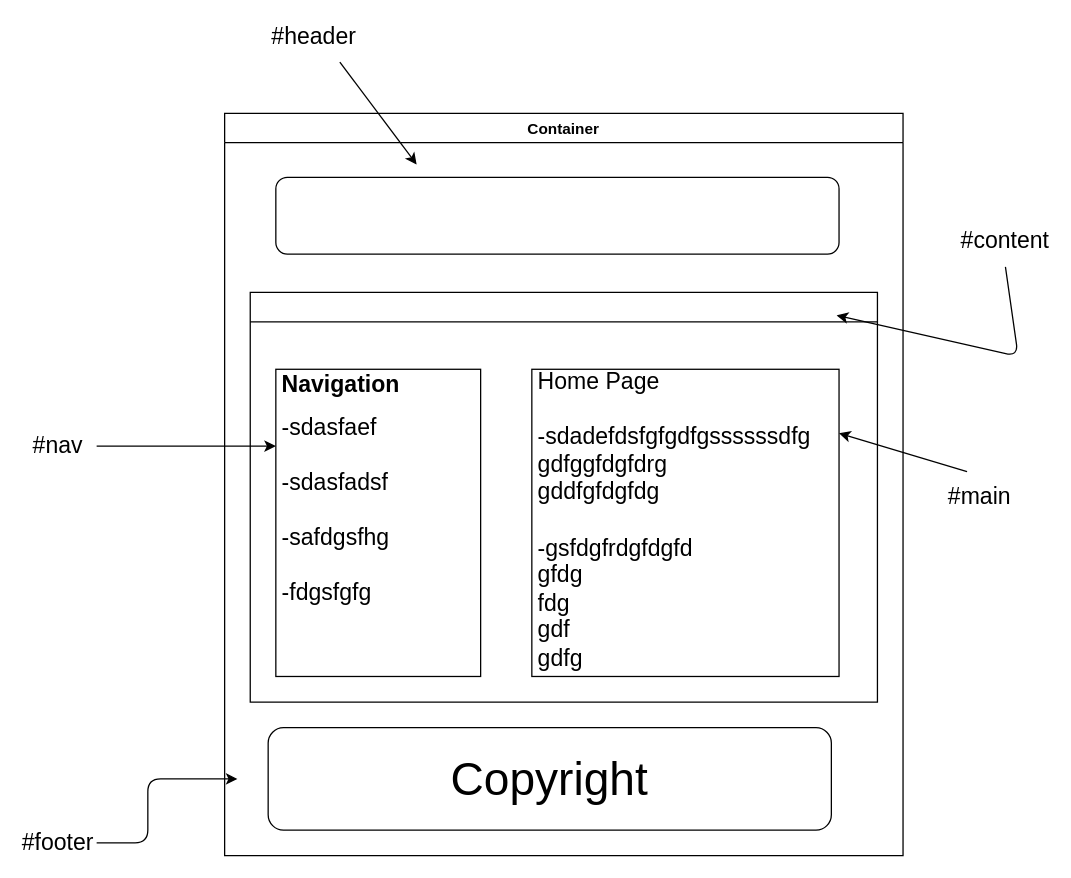
Image size: 1071x878. Some labels were removed from this diagram. Each missing label, with the centre of its shape:
"Content" belongs at (x=563, y=496).
"My Webpage" belongs at (x=557, y=215).
